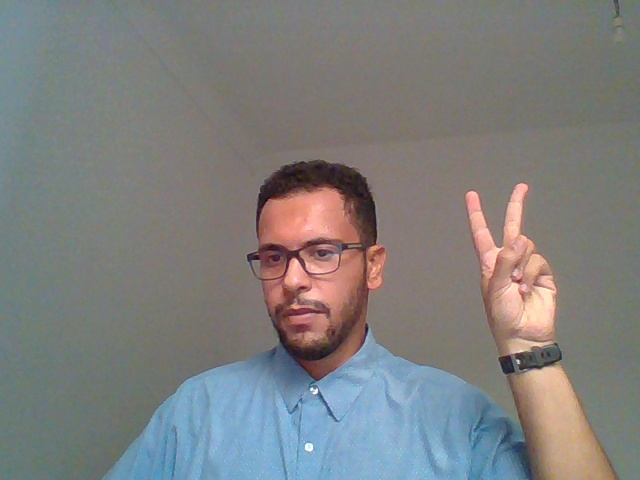vectory: (437, 157, 623, 427)
